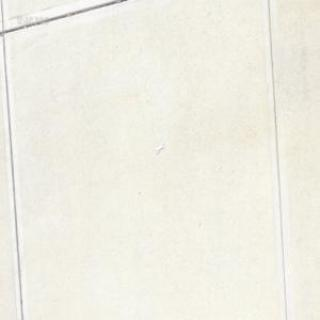Wrenchtrack_idkeyframe: (154, 143, 163, 154)
